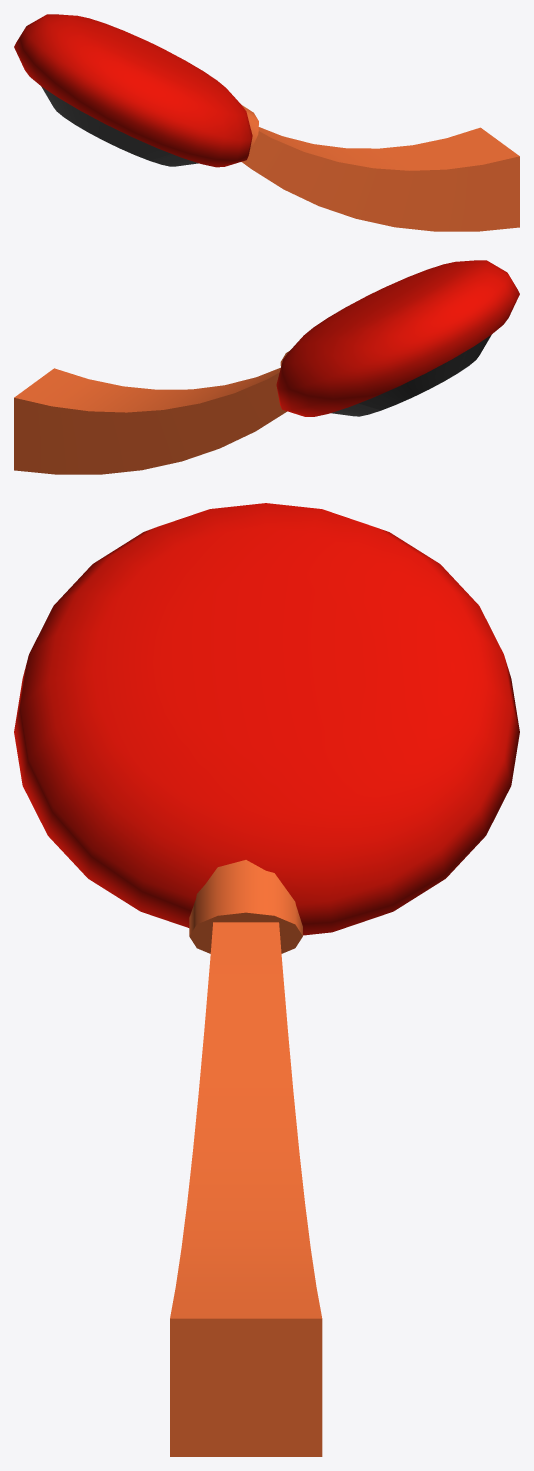
The model's file is Dron_Engine_v3.fbx.
The picture shows the model from 3 angles, top to bottom: view 1: azimuth 30°, elevation 25°; view 2: azimuth 150°, elevation 25°; view 3: azimuth 270°, elevation 25°; orthographic projection. The views are drawn at different scales.
Parts seen in each view (by area): view 1: Engine, Arm, ArmEnd; view 2: Engine, Arm; view 3: Engine, Arm, ArmEnd.
Boxes of the visible parts, box(x1,y1,x2,y2) form: Engine: box(14, 14, 252, 167); Arm: box(241, 127, 519, 231); ArmEnd: box(242, 105, 258, 149); Engine: box(276, 260, 519, 416); Arm: box(14, 367, 286, 474); Engine: box(14, 503, 519, 935); Arm: box(170, 922, 322, 1456); ArmEnd: box(189, 860, 302, 953).
Size of the model in its own units: 342 by 199 by 168.
